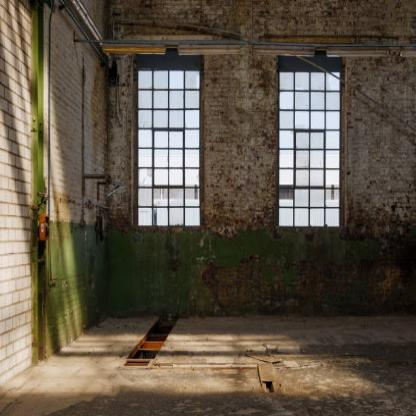Window: (132, 53, 200, 227), (281, 55, 340, 226)
